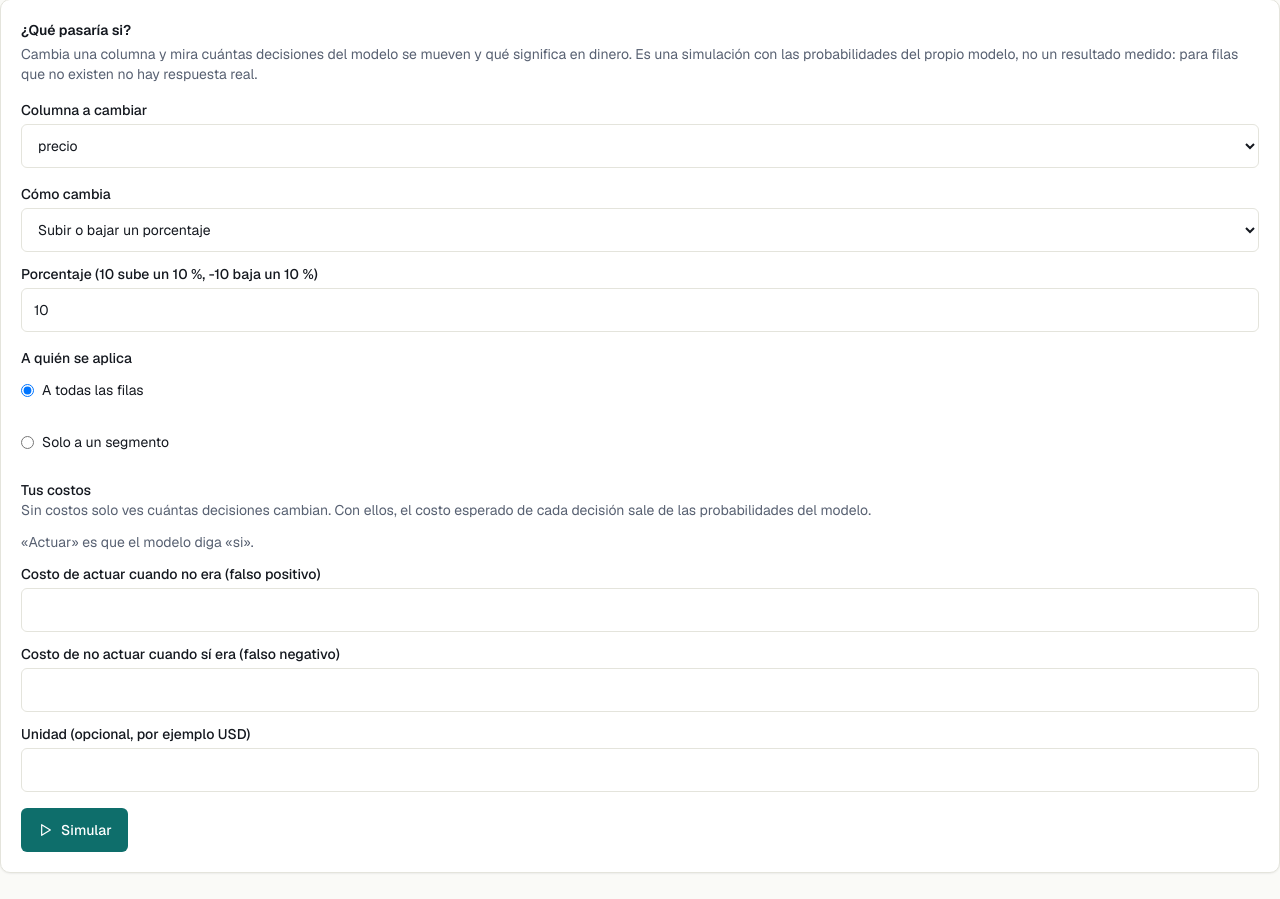
Test: el panel «¿Qué pasaría si?» › al pulsar viaja solo lo del modelo y la columna cambiada; la lectura dice las decisiones que cambian, verificada
Step 1. Replace the text in the field labelled "Porcentaje (10 sube un 10 %, -10 baja un 10 %)" with "50" → (640, 310), box [21, 288, 1259, 332]
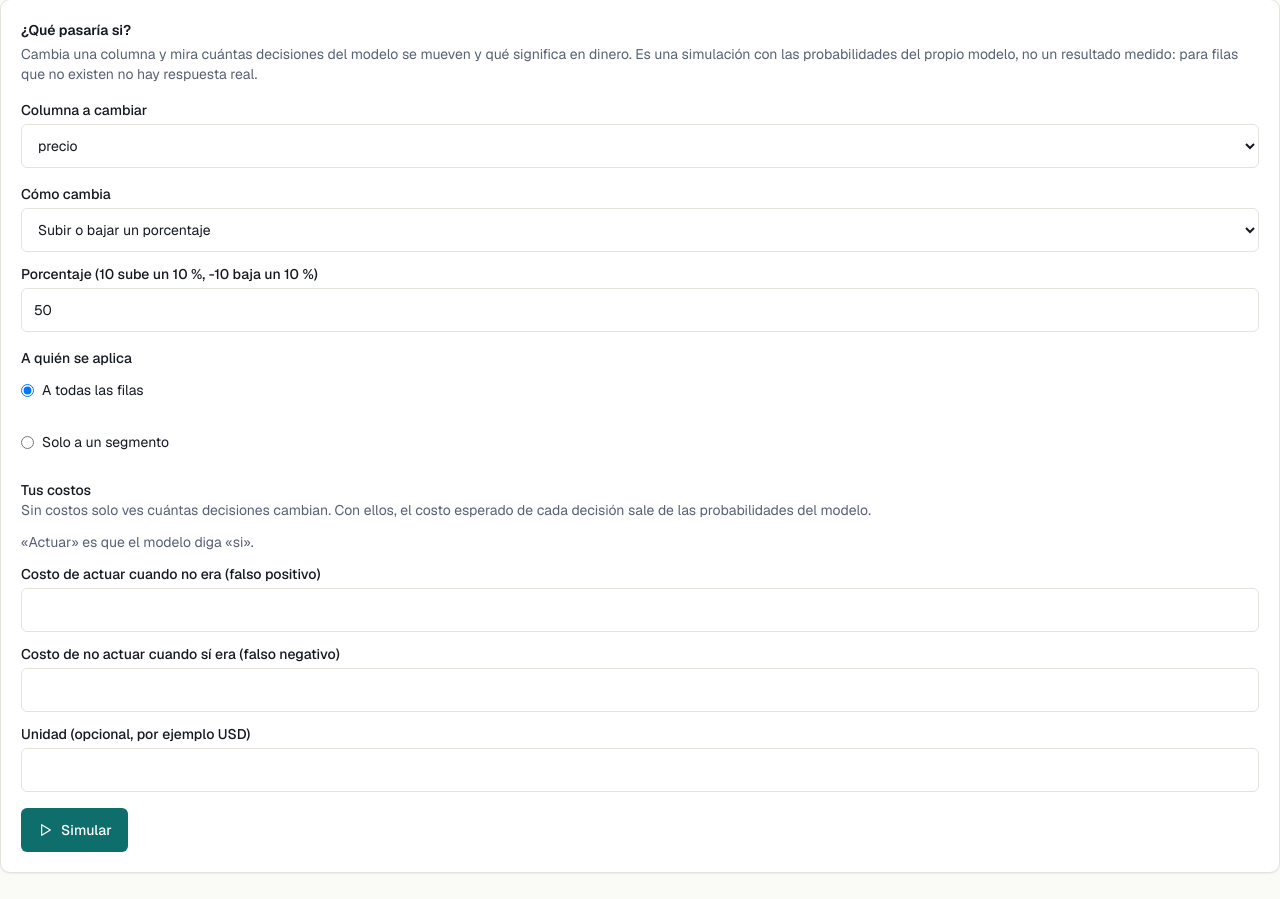
Step 2. Click the button "Simular" → (74, 830), box [21, 808, 128, 852]
(page scrolled)
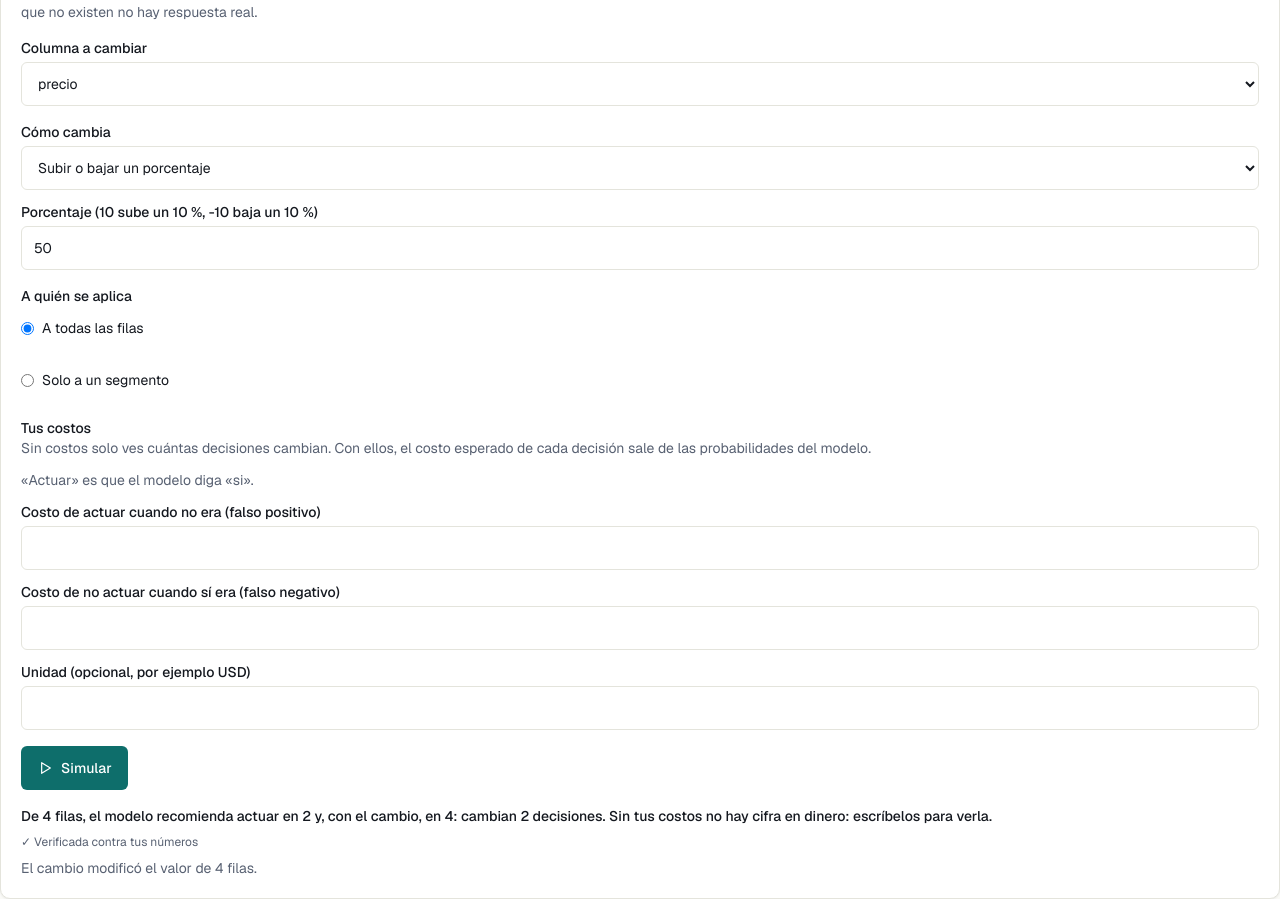
Expected: the element with test id "simulador-lectura" is shown, [21, 807, 992, 877]
Expected: the text with test id "simulador-resumen" shows "De 4 filas", [21, 807, 992, 825]
Expected: the text with test id "simulador-resumen" shows "cambian 2 decisiones", [21, 807, 992, 825]
